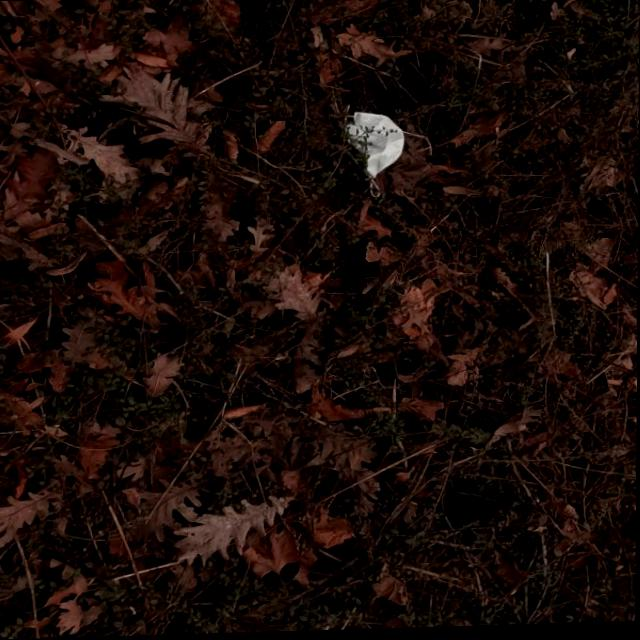Mask: (342, 109, 407, 200)
